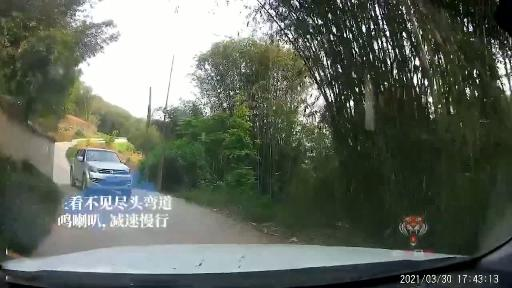CAR: (15, 121, 183, 216)
